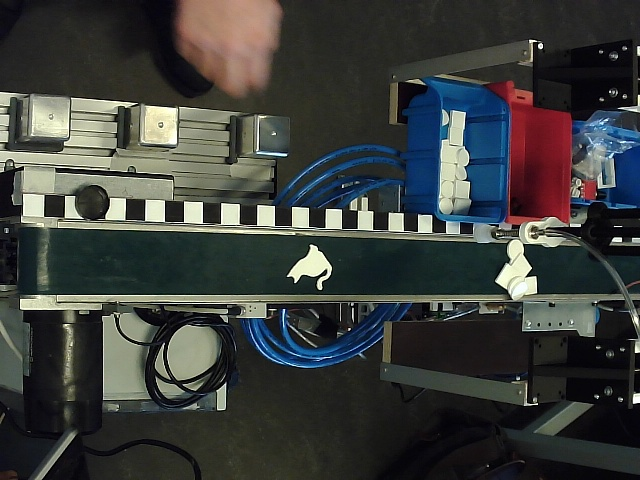cat: (287, 243, 333, 291)
